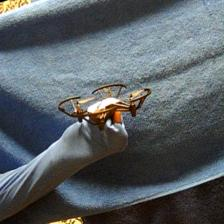drone: (58, 78, 151, 134)
